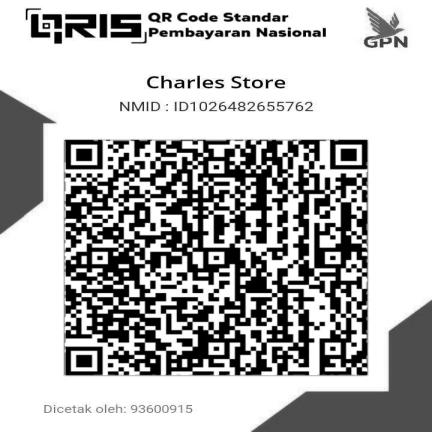Dicetak Oleh: (39, 402, 195, 416)
Logo GPN: (350, 4, 418, 52)
Logo dan deskripsi QRIS: (20, 5, 330, 46)
Nama Merchant: (140, 70, 296, 93)
National Merchant ID: (115, 98, 319, 115)
QR Code: (44, 124, 387, 391)
